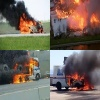fire: (50, 0, 100, 33), (13, 57, 39, 82), (65, 71, 94, 92), (19, 13, 45, 34), (44, 75, 48, 78), (28, 53, 30, 55)
